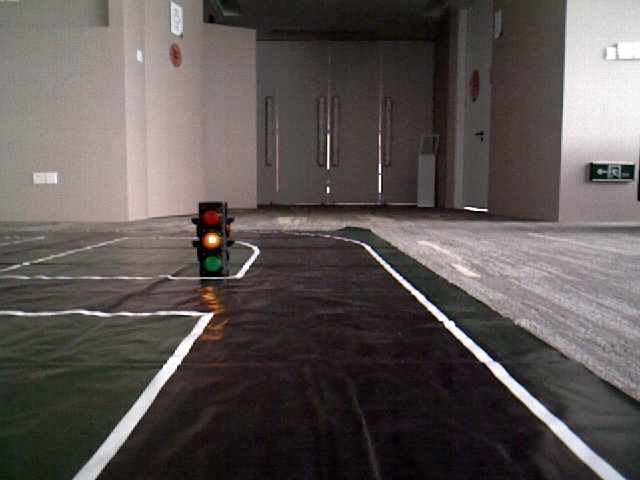yellow: (200, 203, 224, 271)
